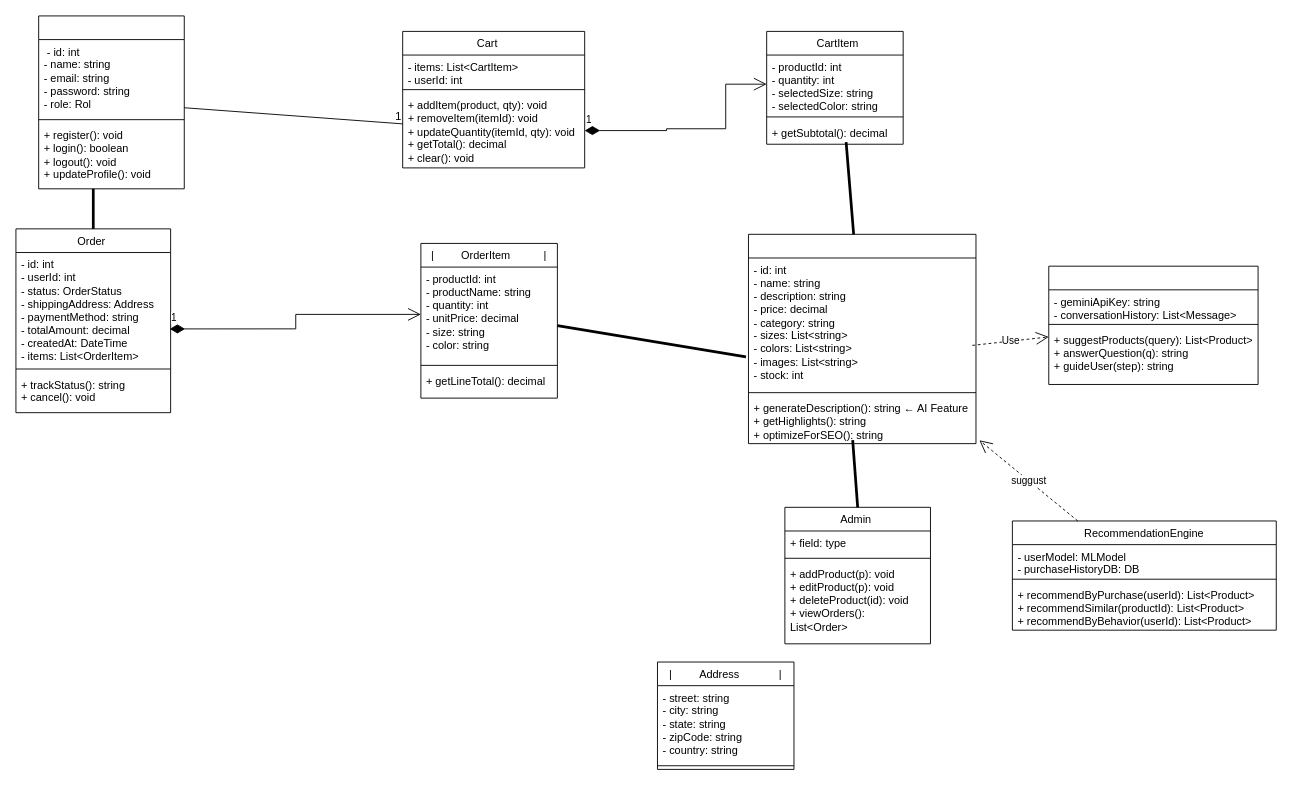
The diagram is 1292 pixels wide and 785 high, and some of its shapes have lost their labels. The box of each missing label's shape, as (x1, y1, x2, y2) in pixels:
AIChatAssistant: (1048, 265, 1258, 384)
Product: (748, 233, 976, 444)
user: (38, 15, 184, 189)
